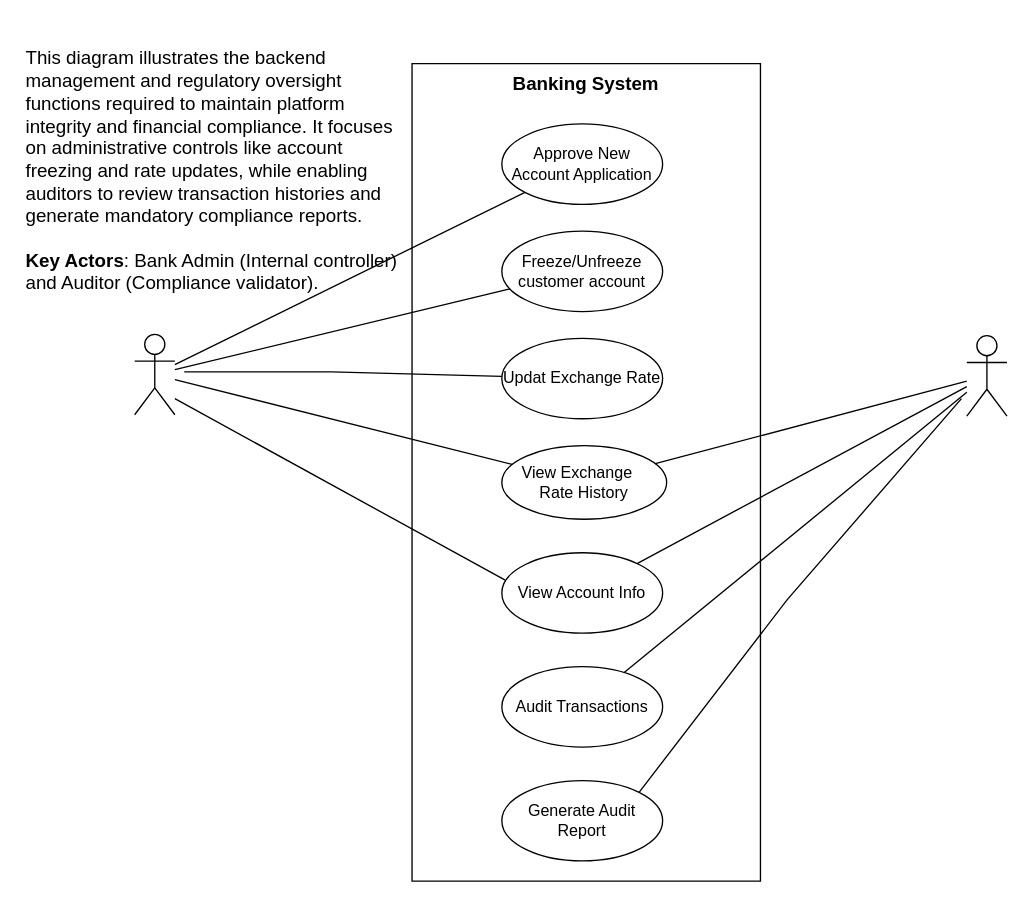
Image size: 1034x905. Some labels were removed from this diagram. Each missing label, with the centre of its shape:
"Auditor" belongs at pixel 986 375.
"Bank Admin" belongs at pixel 154 374.
